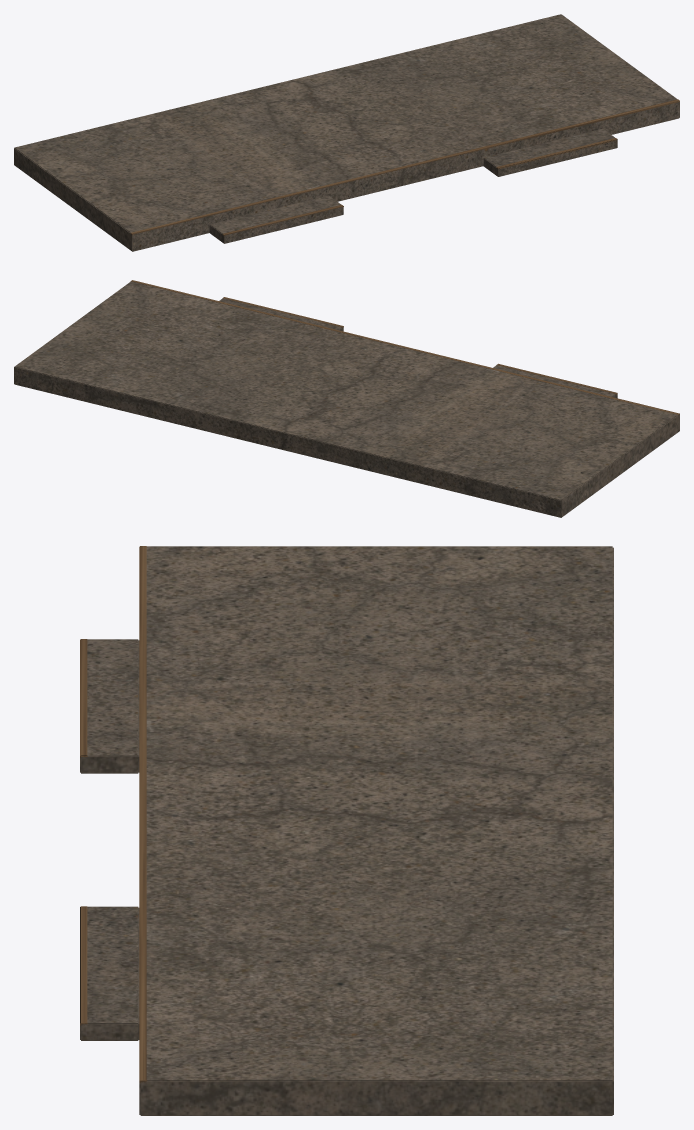
Rendered from podium_stage.glb.
3 views of the same model, one above another, from view 1: azimuth 30°, elevation 25°; view 2: azimuth 150°, elevation 25°; view 3: azimuth 270°, elevation 25° (orthographic). The views are drawn at different scales.
Visible parts, largest first — view 1: Podium Stage; view 2: Podium Stage; view 3: Podium Stage.
Boxes of the visible parts, bbox=[...] form: Podium Stage: bbox=[14, 14, 679, 251]; Podium Stage: bbox=[14, 280, 679, 517]; Podium Stage: bbox=[80, 546, 613, 1115].
Size of the model in its own units: 3.2 by 0.1005 by 1.35.
Materials: 1 (1 with a texture image).
